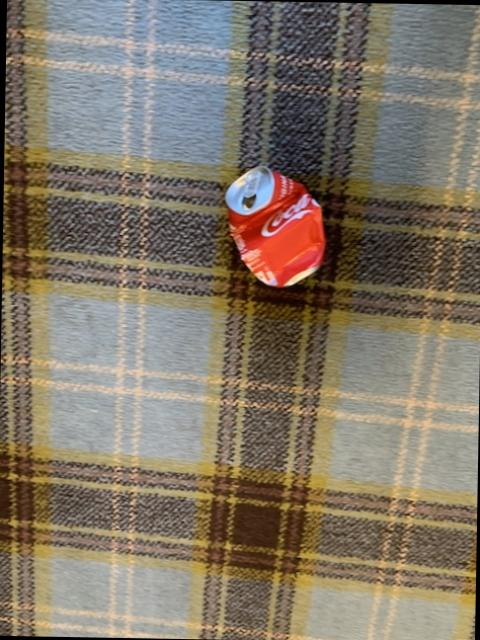metal: (223, 164, 322, 284)
